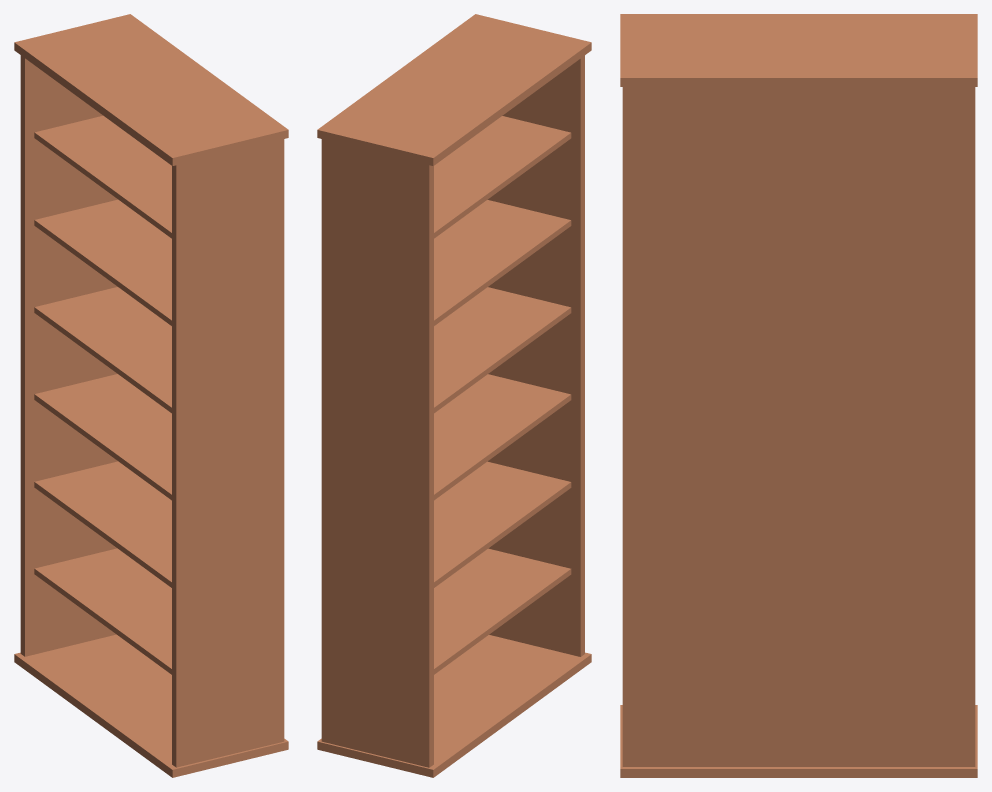
Rendered from bookshelf.fbx.
3 views of the same model, side by side, from view 1: azimuth 30°, elevation 25°; view 2: azimuth 150°, elevation 25°; view 3: azimuth 270°, elevation 25° (orthographic). The views are drawn at different scales.
Parts seen in each view (by area): view 1: Shelf; view 2: Shelf; view 3: Shelf.
Part boxes in pixels (x1,y1,x2,y2): Shelf: [14, 14, 288, 777]; Shelf: [317, 14, 591, 777]; Shelf: [620, 14, 977, 777].
Bounding box in the file's own units: 69.88 × 356 × 165.
